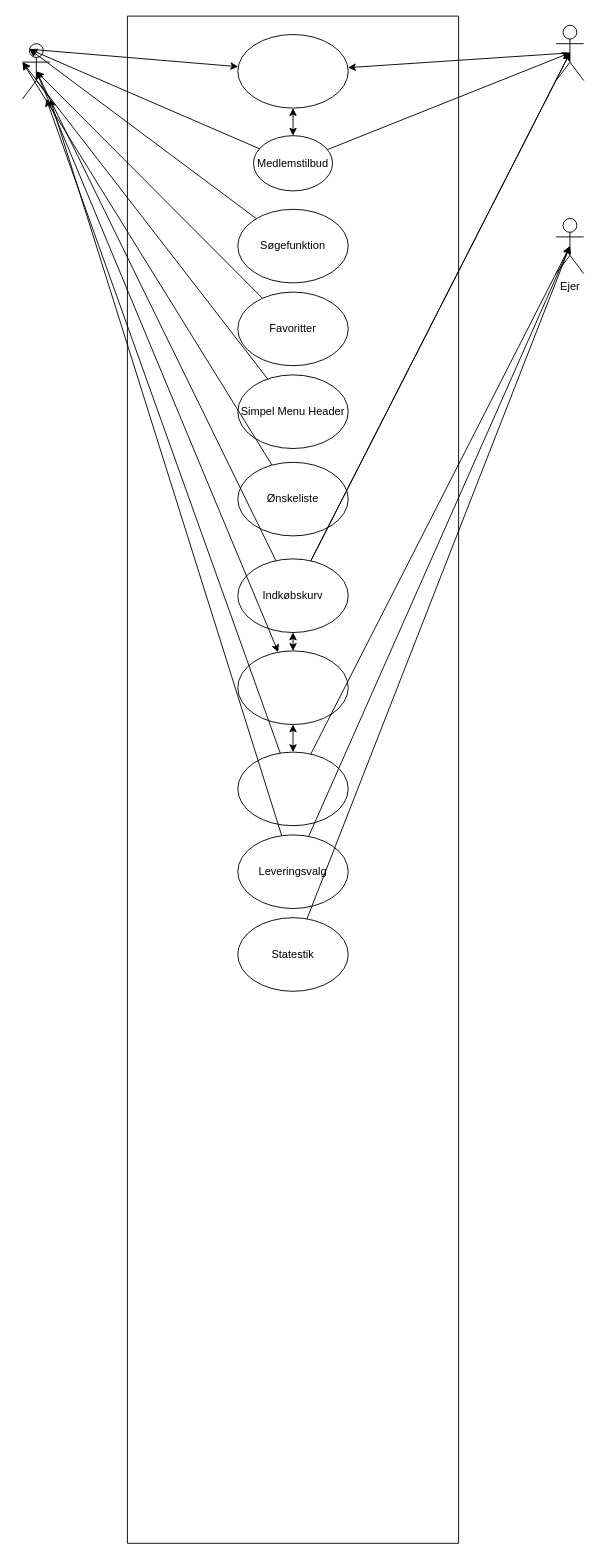
The diagram is 602 pixels wide and 1559 high, and some of its shapes have lost their labels. The box of each missing label's shape, as (x1, y1, x2, y2) in pixels:
Admin: (555, 24, 584, 80)
Andre Købte Også: (237, 650, 348, 724)
Betaling: (237, 751, 348, 826)
Kunden: (22, 43, 50, 99)
Log in: (237, 34, 348, 108)
